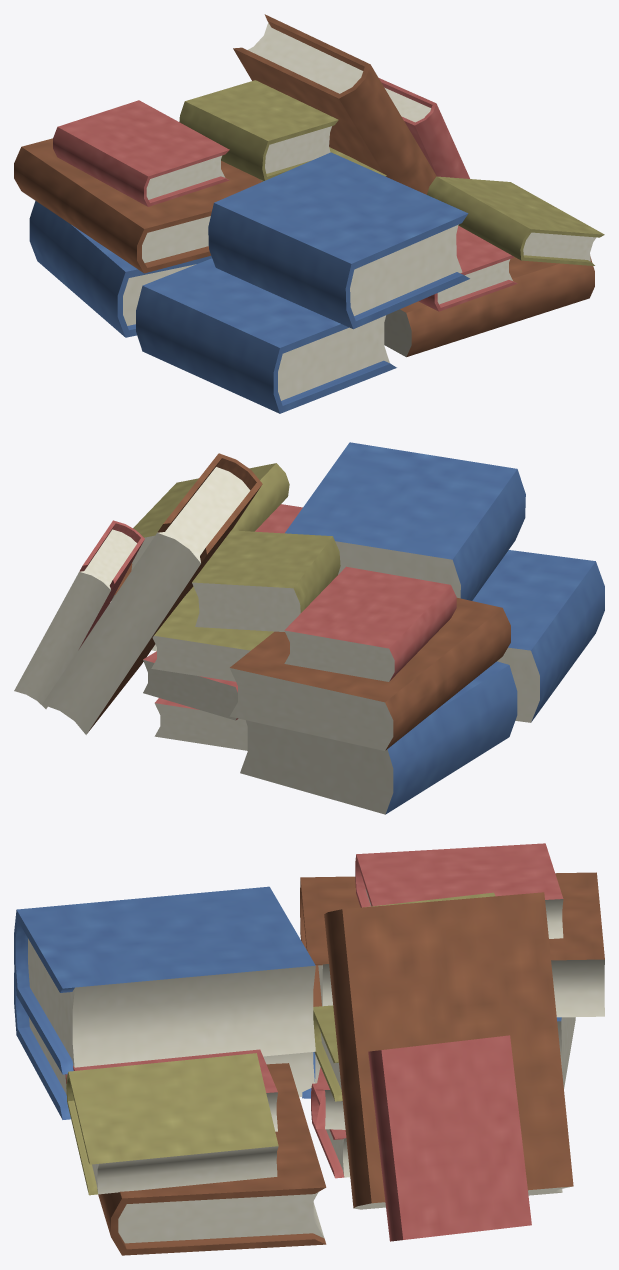
File: SM_Book_Pile.fbx
3 renders of one model, top to bottom at view 1: azimuth 30°, elevation 25°; view 2: azimuth 150°, elevation 25°; view 3: azimuth 270°, elevation 25°, orthographic. The views are drawn at different scales.
Visible parts, largest first — view 1: SM_Book_Pile; view 2: SM_Book_Pile; view 3: SM_Book_Pile.
Part boxes in pixels (x1=…): SM_Book_Pile: x1=14, y1=14, x2=604, y2=413; SM_Book_Pile: x1=14, y1=442, x2=604, y2=814; SM_Book_Pile: x1=14, y1=843, x2=604, y2=1255.
Size of the model in its own units: 97.84 by 47.77 by 97.24.
